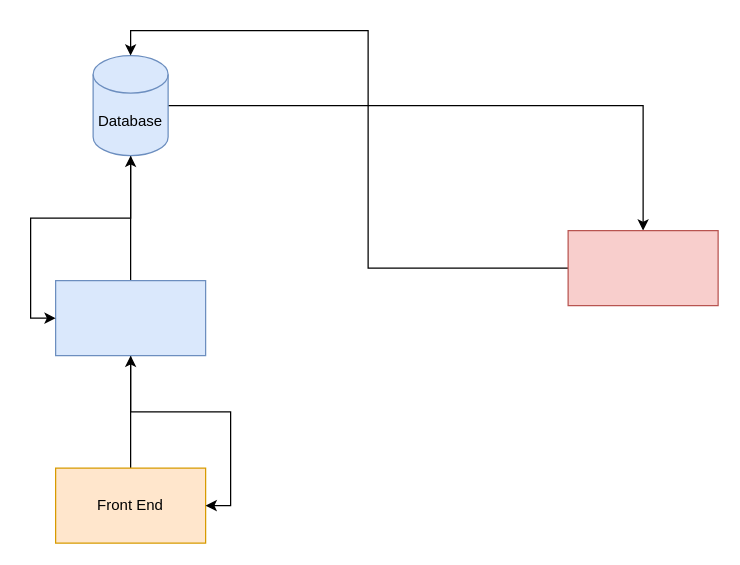
The diagram is 740 pixels wide and 565 high, and some of its shapes have lost their labels. Here are the shapes that lost their labels. From the top down, the centre of each, then its label:
(x=642, y=267): Scrapping Service
(x=130, y=317): Back End
